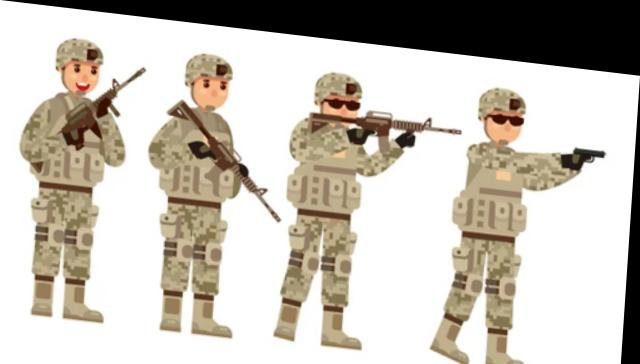other: (11, 25, 135, 322), (141, 41, 257, 332), (278, 60, 383, 337), (454, 70, 545, 358)
